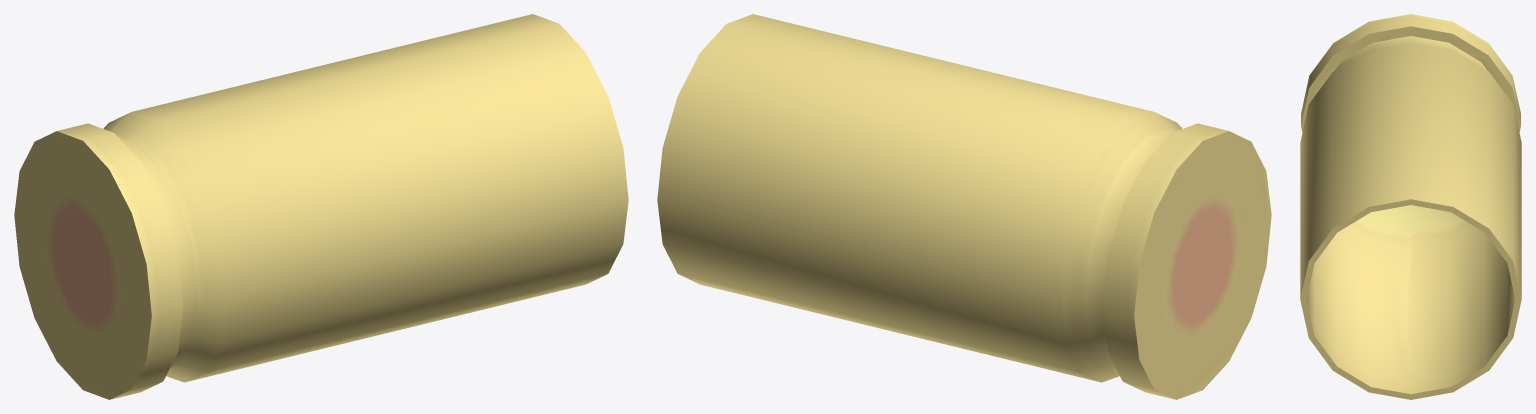
File: 9mm_casing.glb
3 renders of one model, left to right at view 1: azimuth 30°, elevation 25°; view 2: azimuth 150°, elevation 25°; view 3: azimuth 270°, elevation 25°, orthographic. The views are drawn at different scales.
Visible parts, largest first — view 1: Object_18; view 2: Object_18; view 3: Object_18.
Part boxes in pixels (<box>): Object_18: <box>14,14,628,399</box>; Object_18: <box>657,14,1271,399</box>; Object_18: <box>1300,14,1521,399</box>.
Size of the model in its own units: 0.0177 by 0.00891 by 0.00891.
1 material, 1 textured.
